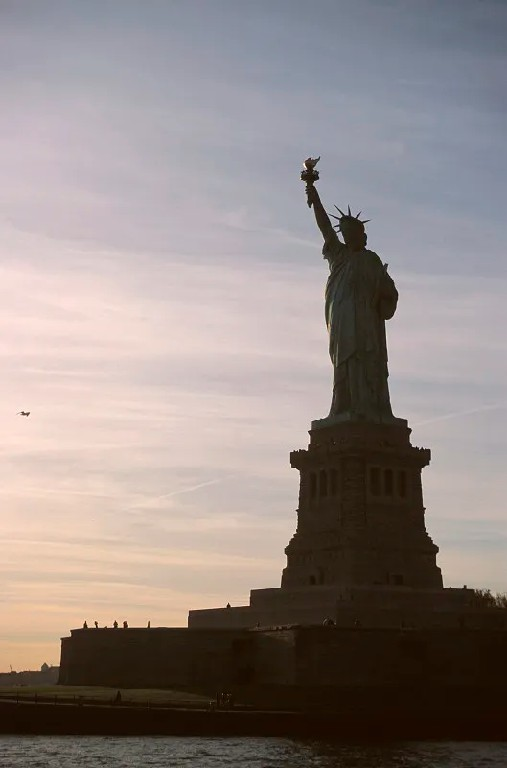SL: (281, 156, 445, 588)
